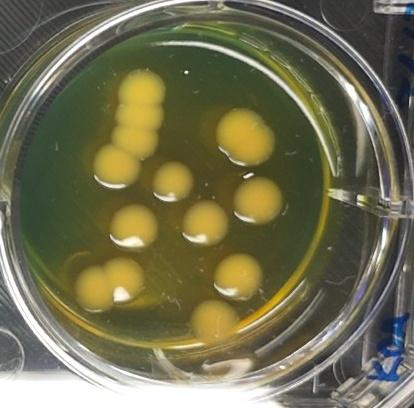valgino: (86, 65, 170, 192), (68, 253, 147, 316), (212, 104, 275, 168), (184, 296, 243, 346), (208, 251, 264, 302), (232, 175, 285, 227), (107, 201, 160, 251), (179, 199, 230, 248), (150, 162, 194, 203)
